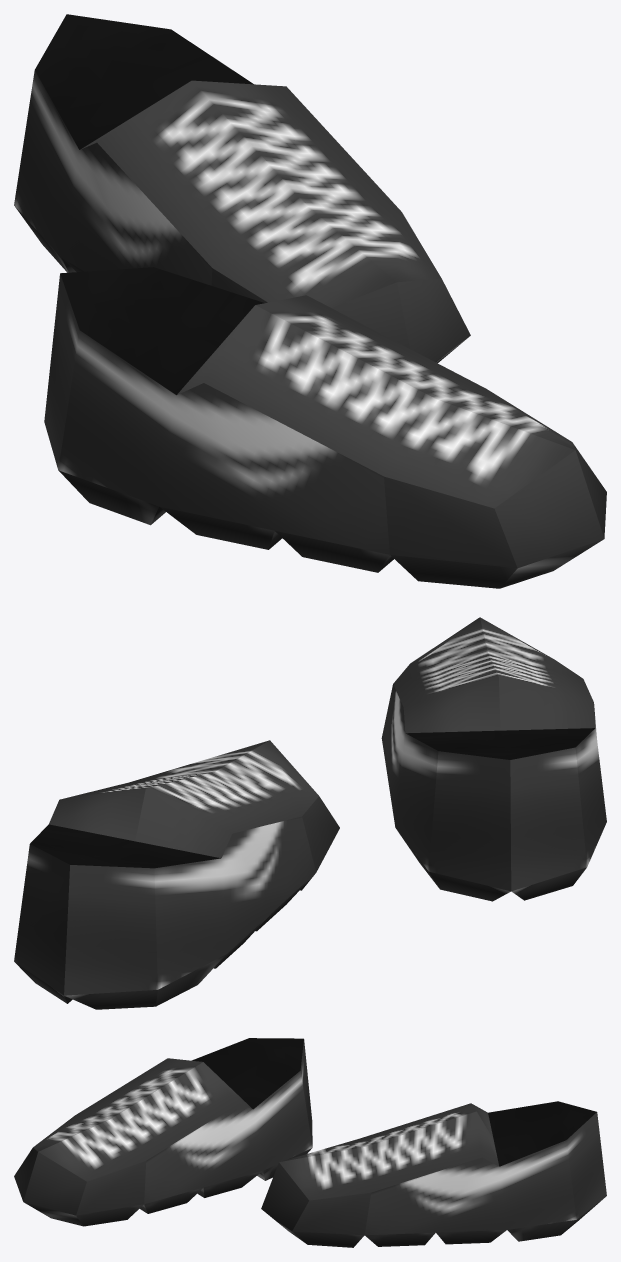
The model's file is cleats.fbx.
The picture shows the model from 3 angles, top to bottom: view 1: azimuth 30°, elevation 25°; view 2: azimuth 150°, elevation 25°; view 3: azimuth 270°, elevation 25°; orthographic projection. The views are drawn at different scales.
Visible parts, largest first — view 1: Cleats; view 2: Cleats; view 3: Cleats.
Boxes of the visible parts, box(x1,y1,x2,y2) form: Cleats: box(14, 14, 606, 588); Cleats: box(14, 617, 606, 1009); Cleats: box(14, 1038, 606, 1247).
Size of the model in its own units: 0.2072 by 0.0834 by 0.4147.
